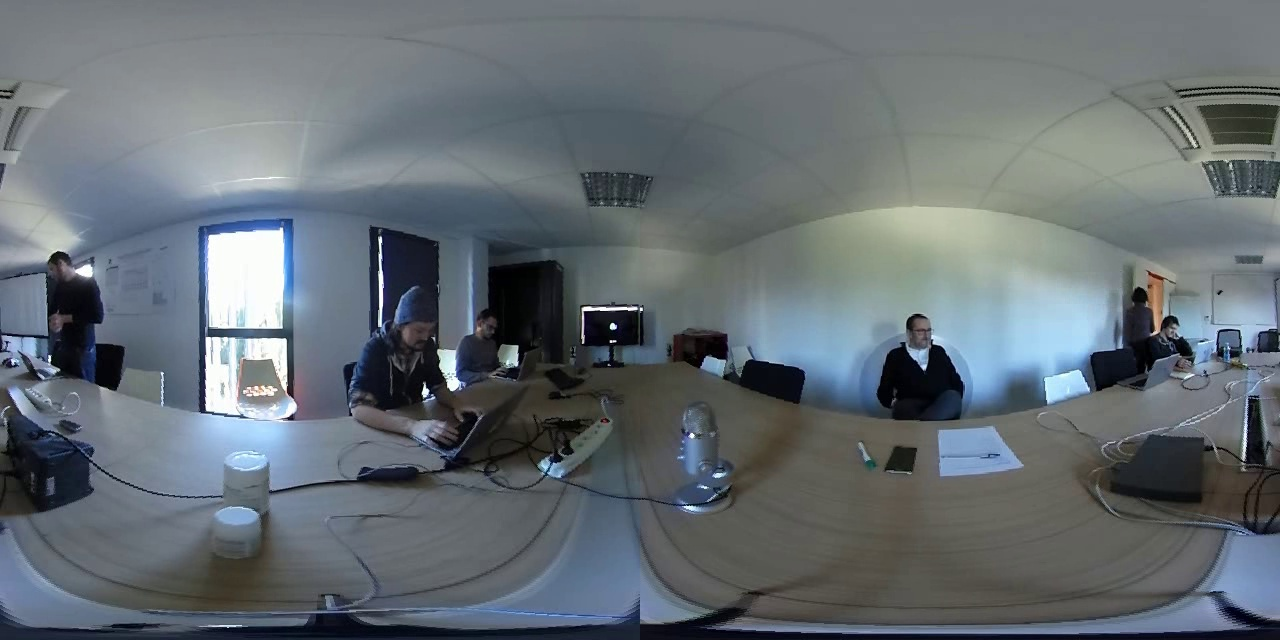person: (349, 277, 459, 435), (871, 301, 974, 419), (38, 238, 105, 379), (461, 280, 508, 386), (1153, 310, 1194, 370), (1120, 283, 1150, 349)
